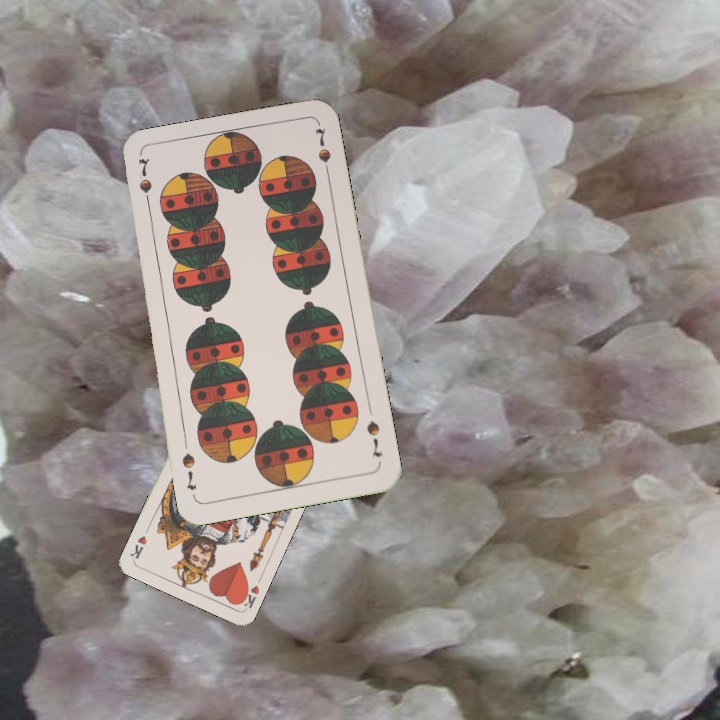HK: (235, 580, 262, 611)
S7: (134, 154, 154, 213), (362, 417, 385, 461)
